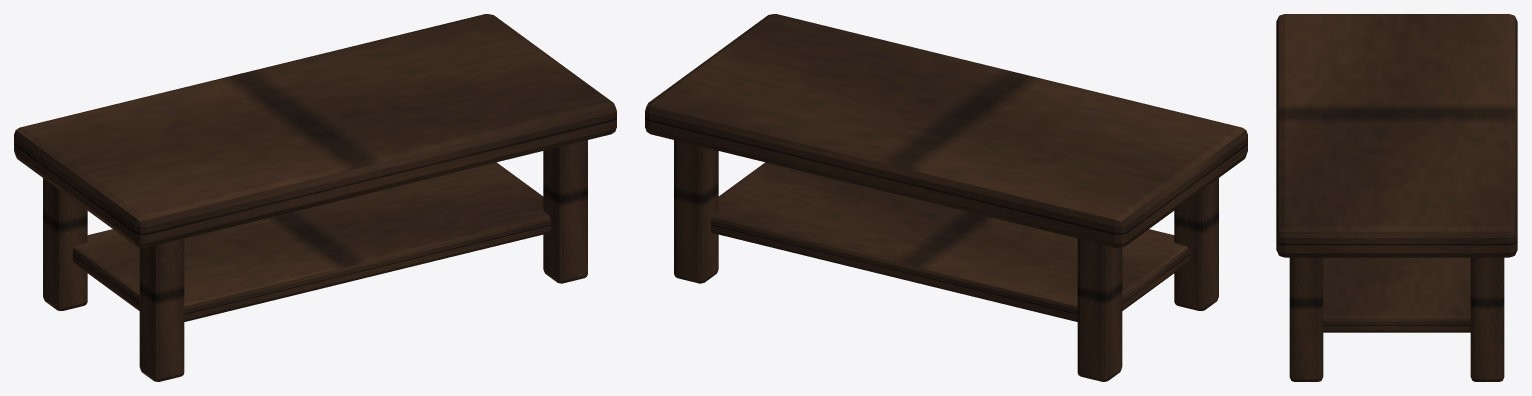
Rendered from scarred-coffee-table.glb.
The picture shows the model from 3 angles, left to right: view 1: azimuth 30°, elevation 25°; view 2: azimuth 150°, elevation 25°; view 3: azimuth 270°, elevation 25°; orthographic projection. The views are drawn at different scales.
Visible parts, largest first — view 1: SM_lonely_house_coffee_table_DarkWood; view 2: SM_lonely_house_coffee_table_DarkWood; view 3: SM_lonely_house_coffee_table_DarkWood.
Boxes of the visible parts, x1,y1,x2,y2 form: SM_lonely_house_coffee_table_DarkWood: (14,14,616,381); SM_lonely_house_coffee_table_DarkWood: (645,14,1247,381); SM_lonely_house_coffee_table_DarkWood: (1276,14,1517,381).
Size of the model in its own units: 1.55 by 0.54 by 0.72.
Materials: 1 (1 with a texture image).
